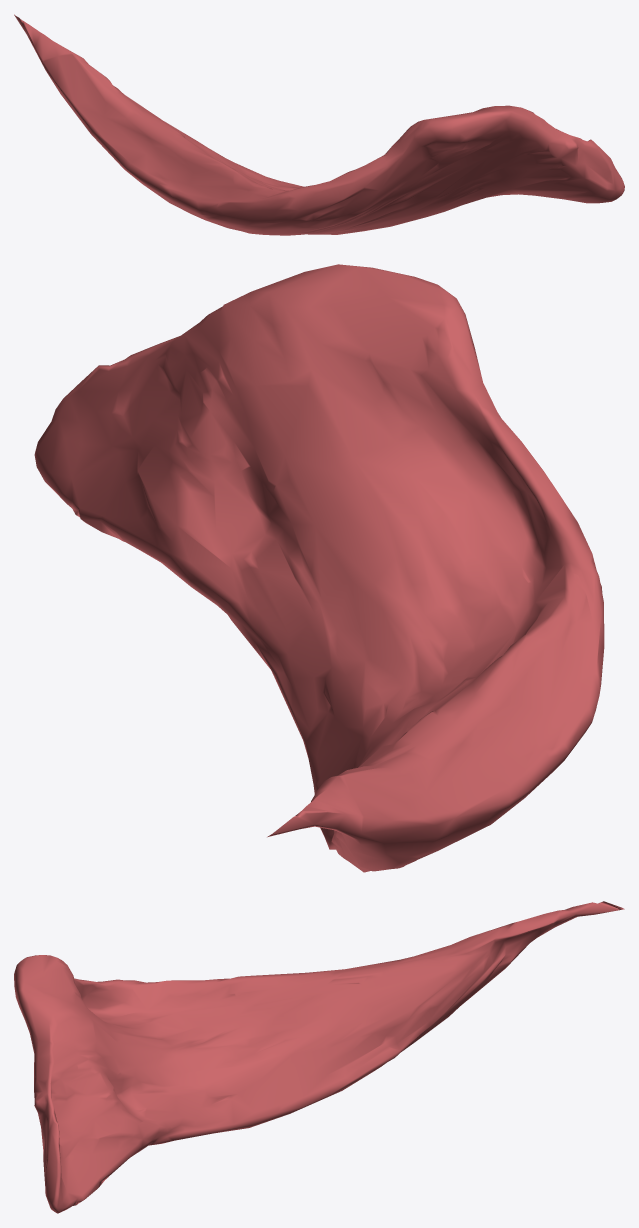
3 renders of one model, top to bottom at view 1: azimuth 30°, elevation 25°; view 2: azimuth 150°, elevation 25°; view 3: azimuth 270°, elevation 25°, orthographic. The views are drawn at different scales.
Visible parts, largest first — view 1: 右侧三角肌锁骨部; view 2: 右侧三角肌锁骨部; view 3: 右侧三角肌锁骨部.
Part boxes in pixels (bbox=[...]): 右侧三角肌锁骨部: bbox=[14, 14, 624, 235]; 右侧三角肌锁骨部: bbox=[34, 264, 604, 872]; 右侧三角肌锁骨部: bbox=[14, 901, 624, 1213].
Size of the model in its own units: 0.1857 by 0.0808 by 0.2291.
